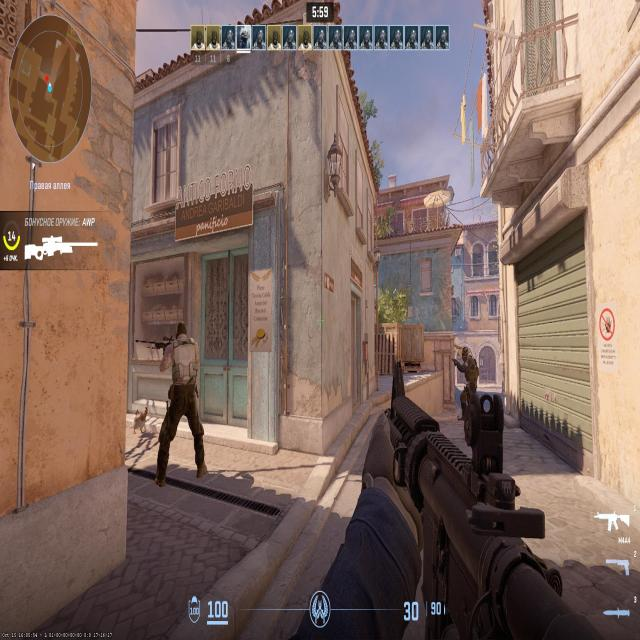CT: (463, 350, 477, 415)
CT_heat: (464, 352, 470, 362)
T: (166, 321, 200, 469)
T_heat: (174, 322, 187, 344)
